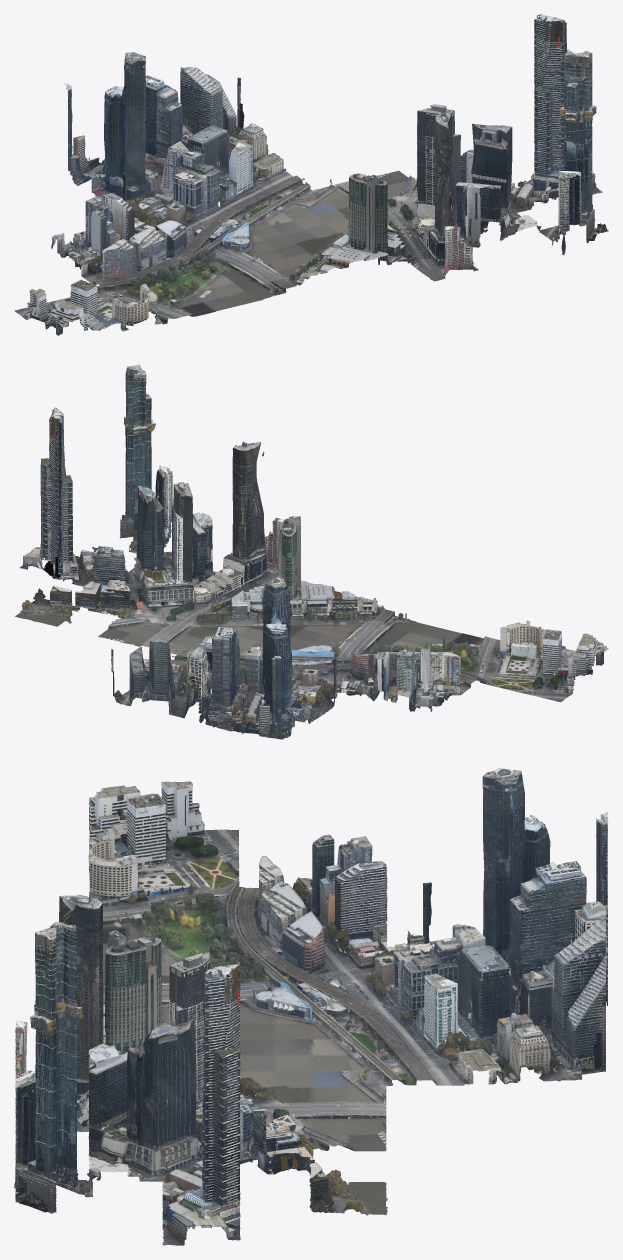
The model's file is viaduct-context.glb.
3 views of the same model, one above another, from view 1: azimuth 30°, elevation 25°; view 2: azimuth 150°, elevation 25°; view 3: azimuth 270°, elevation 25° (orthographic). The views are drawn at different scales.
Visible parts, largest first — view 1: I3S 155581, I3S 141755, I3S 161066, I3S 145508, I3S 119369, I3S 147456, I3S 163103, I3S 161756, I3S 136083, I3S 147014, I3S 164095, I3S 140285 (+16 smaller); view 2: I3S 164095, I3S 161066, I3S 155581, I3S 111578, I3S 119369, I3S 161756, I3S 27596, I3S 25693, I3S 126186, I3S 28751, I3S 125431, I3S 163103 (+16 smaller); view 3: I3S 141755, I3S 155581, I3S 164095, I3S 119369, I3S 147014, I3S 25693, I3S 147456, I3S 163103, I3S 140285, I3S 111578, I3S 129847, I3S 161066 (+17 smaller).
Part boxes in pixels (<box>): I3S 155581: <box>51,193,185,285</box>; I3S 141755: <box>175,89,311,210</box>; I3S 161066: <box>275,173,411,273</box>; I3S 145508: <box>89,52,158,204</box>; I3S 119369: <box>534,14,602,198</box>; I3S 147456: <box>227,188,348,249</box>; I3S 163103: <box>101,258,235,324</box>; I3S 161756: <box>192,248,323,306</box>; I3S 136083: <box>408,114,478,281</box>; I3S 147014: <box>141,205,275,266</box>; I3S 164095: <box>14,279,151,335</box>; I3S 140285: <box>476,125,540,240</box>; I3S 164095: <box>478,620,608,702</box>; I3S 161066: <box>228,516,357,641</box>; I3S 155581: <box>346,648,477,711</box>; I3S 111578: <box>98,581,228,654</box>; I3S 119369: <box>19,407,86,579</box>; I3S 161756: <box>311,596,441,653</box>; I3S 27596: <box>193,626,259,731</box>; I3S 25693: <box>111,639,211,718</box>; I3S 126186: <box>211,441,264,599</box>; I3S 28751: <box>235,624,300,739</box>; I3S 125431: <box>144,482,210,611</box>; I3S 163103: <box>398,622,524,680</box>; I3S 141755: <box>383,890,534,1085</box>; I3S 155581: <box>236,834,387,959</box>; I3S 164095: <box>88,781,239,894</box>; I3S 119369: <box>162,961,240,1245</box>; I3S 147014: <box>236,918,386,1024</box>; I3S 25693: <box>530,899,605,1081</box>; I3S 147456: <box>240,1014,386,1087</box>; I3S 163103: <box>89,854,240,960</box>; I3S 140285: <box>88,1022,166,1181</box>; I3S 111578: <box>240,1077,386,1151</box>; I3S 129847: <box>15,926,56,1213</box>; I3S 161066: <box>103,930,240,1054</box>.
Size of the model in its own units: 1045 by 339 by 632.
Materials: 31 (31 with a texture image).
